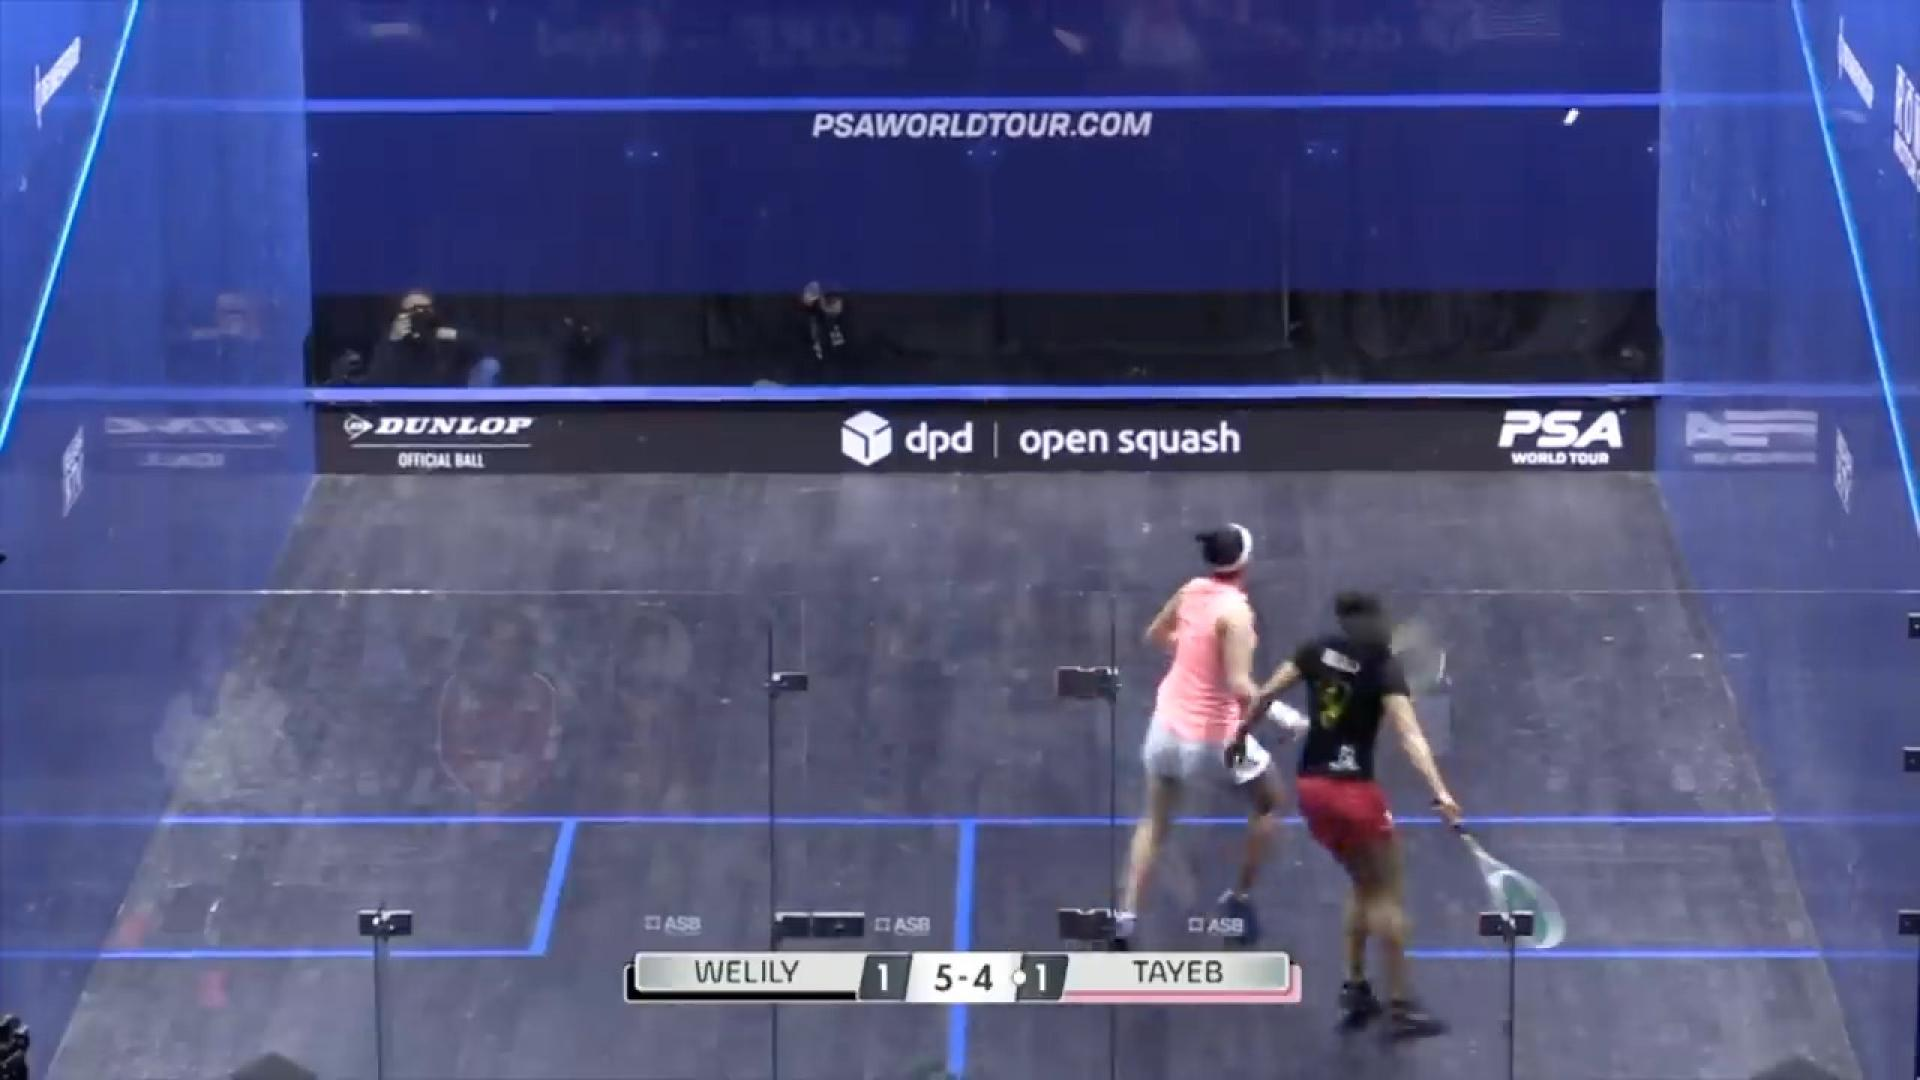Squash-Ball: (1545, 92, 1600, 145)
